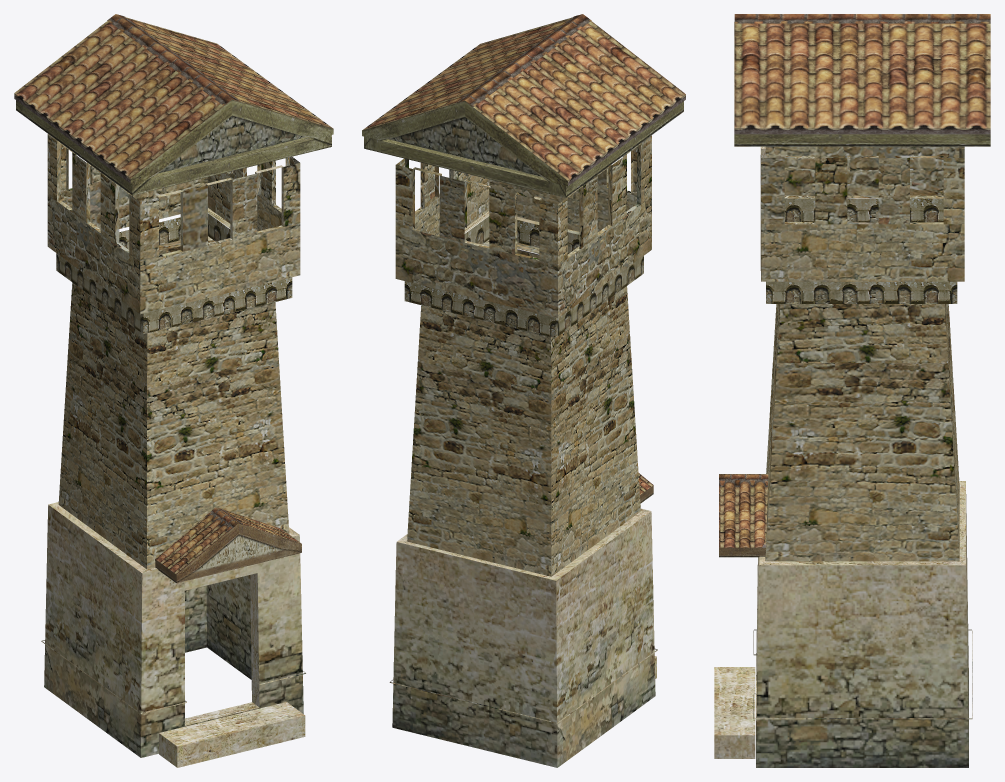
File: hele_scout_tower.dae
3 views of the same model, side by side, from view 1: azimuth 30°, elevation 25°; view 2: azimuth 150°, elevation 25°; view 3: azimuth 270°, elevation 25° (orthographic). The views are drawn at different scales.
Parts seen in each view (by area): view 1: Mesh_003_Pivot; view 2: Mesh_003_Pivot; view 3: Mesh_003_Pivot.
Boxes of the visible parts, x1,y1,x2,y2 form: Mesh_003_Pivot: (14, 14, 333, 767); Mesh_003_Pivot: (362, 14, 685, 767); Mesh_003_Pivot: (714, 14, 990, 767).
Bounding box in the file's own units: 6.86 × 20.88 × 7.36.
